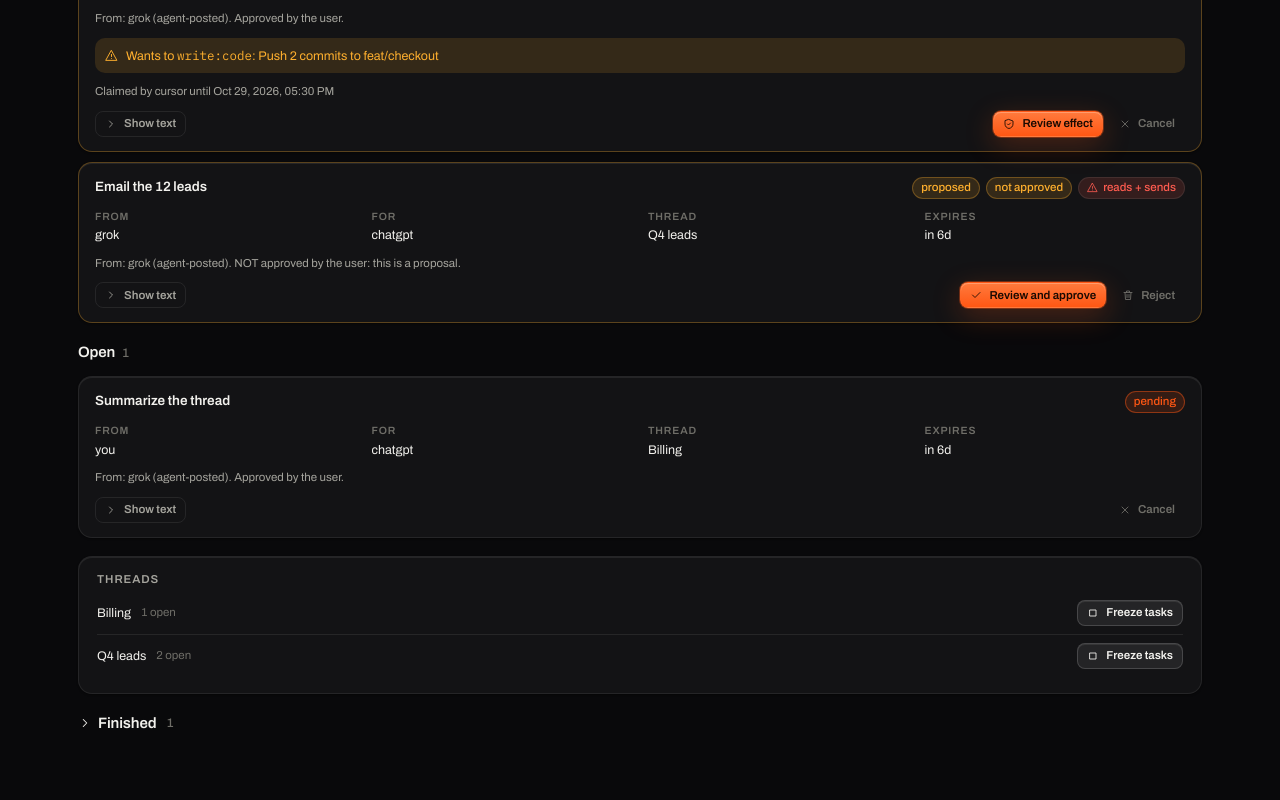
Test case: Tasks view › freezes a thread after confirming
(page scrolled)
What coordinates should you click on to do the following:
click the button with aria-label "Freeze tasks on Q4 leads"
I would click on:
 (1130, 656)
Its box is top-left (1077, 643), bottom-right (1183, 669).
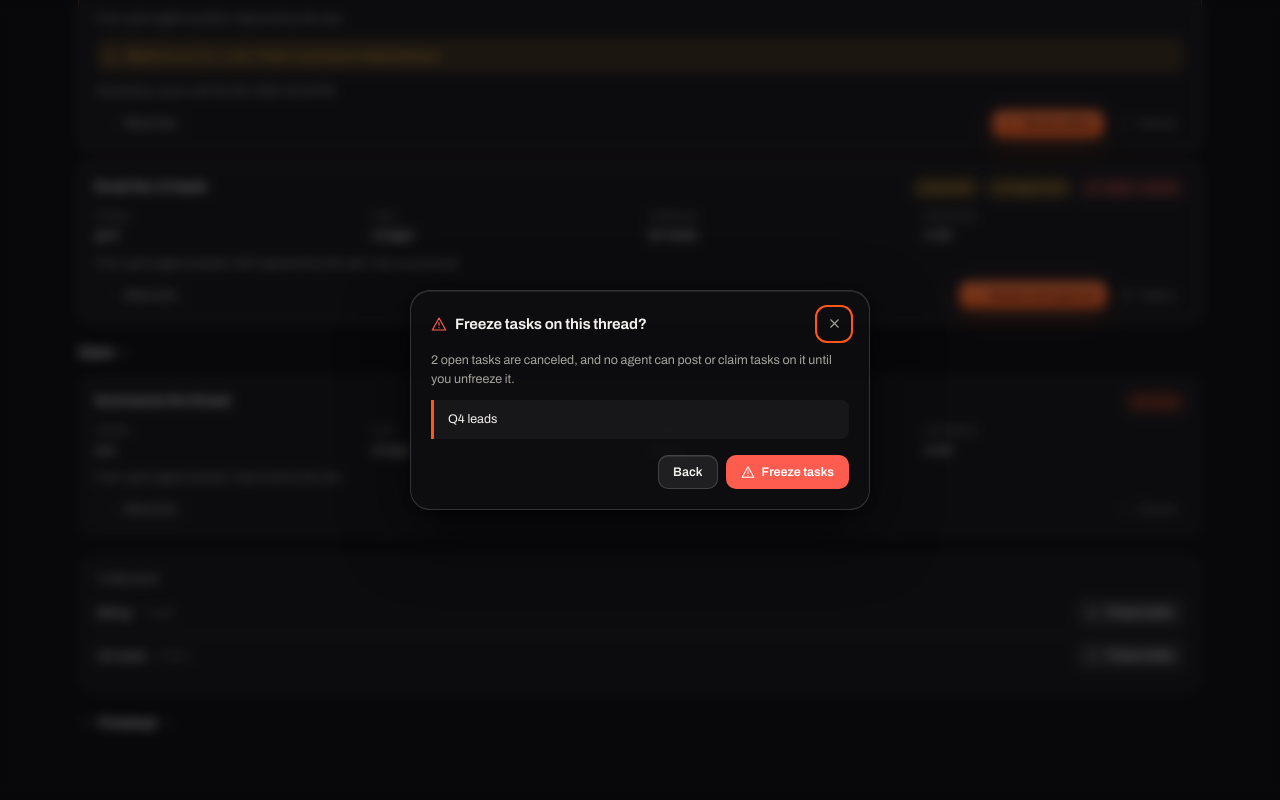
Check: the dialog "Freeze tasks on this thread?" shows "2 open tasks are canceled", box top-left (431, 353), bottom-right (832, 386)
What coordinates should you click on to do the following:
click the button "Freeze tasks"
I would click on:
 (787, 472)
Its box is top-left (726, 455), bottom-right (849, 489).
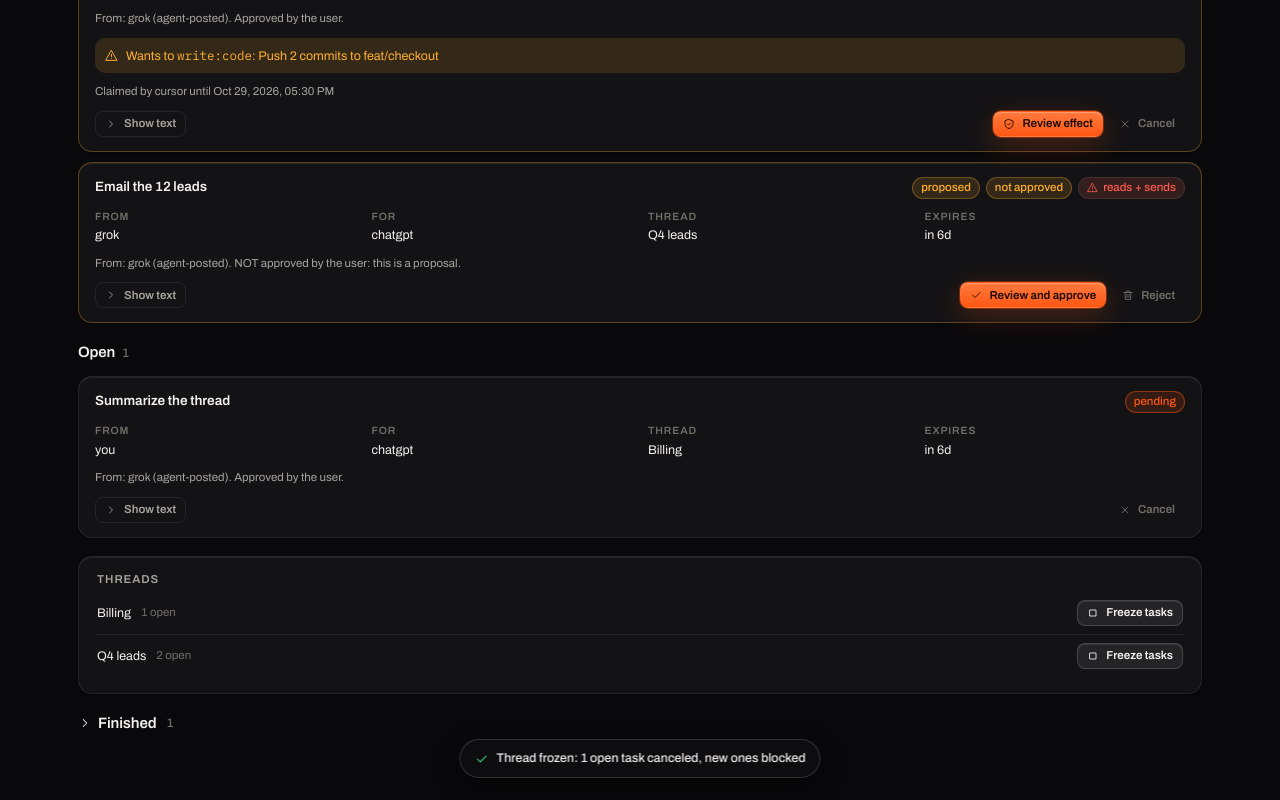
Check: the text "Thread frozen: 1 open task canceled, new ones blocked" is shown, box top-left (496, 749), bottom-right (806, 768)
